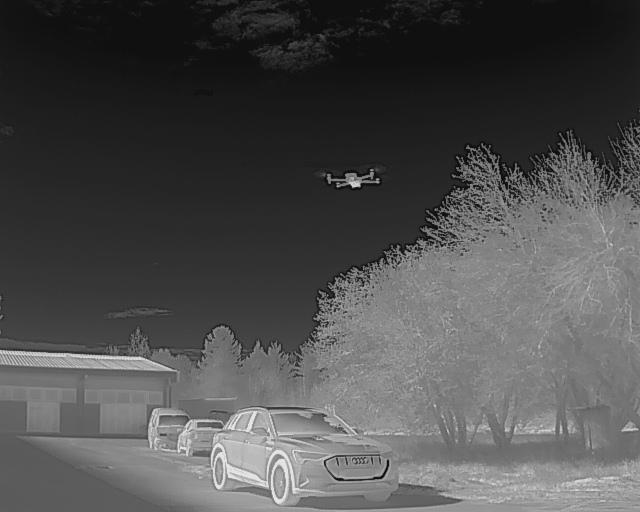drone: (313, 158, 387, 195)
